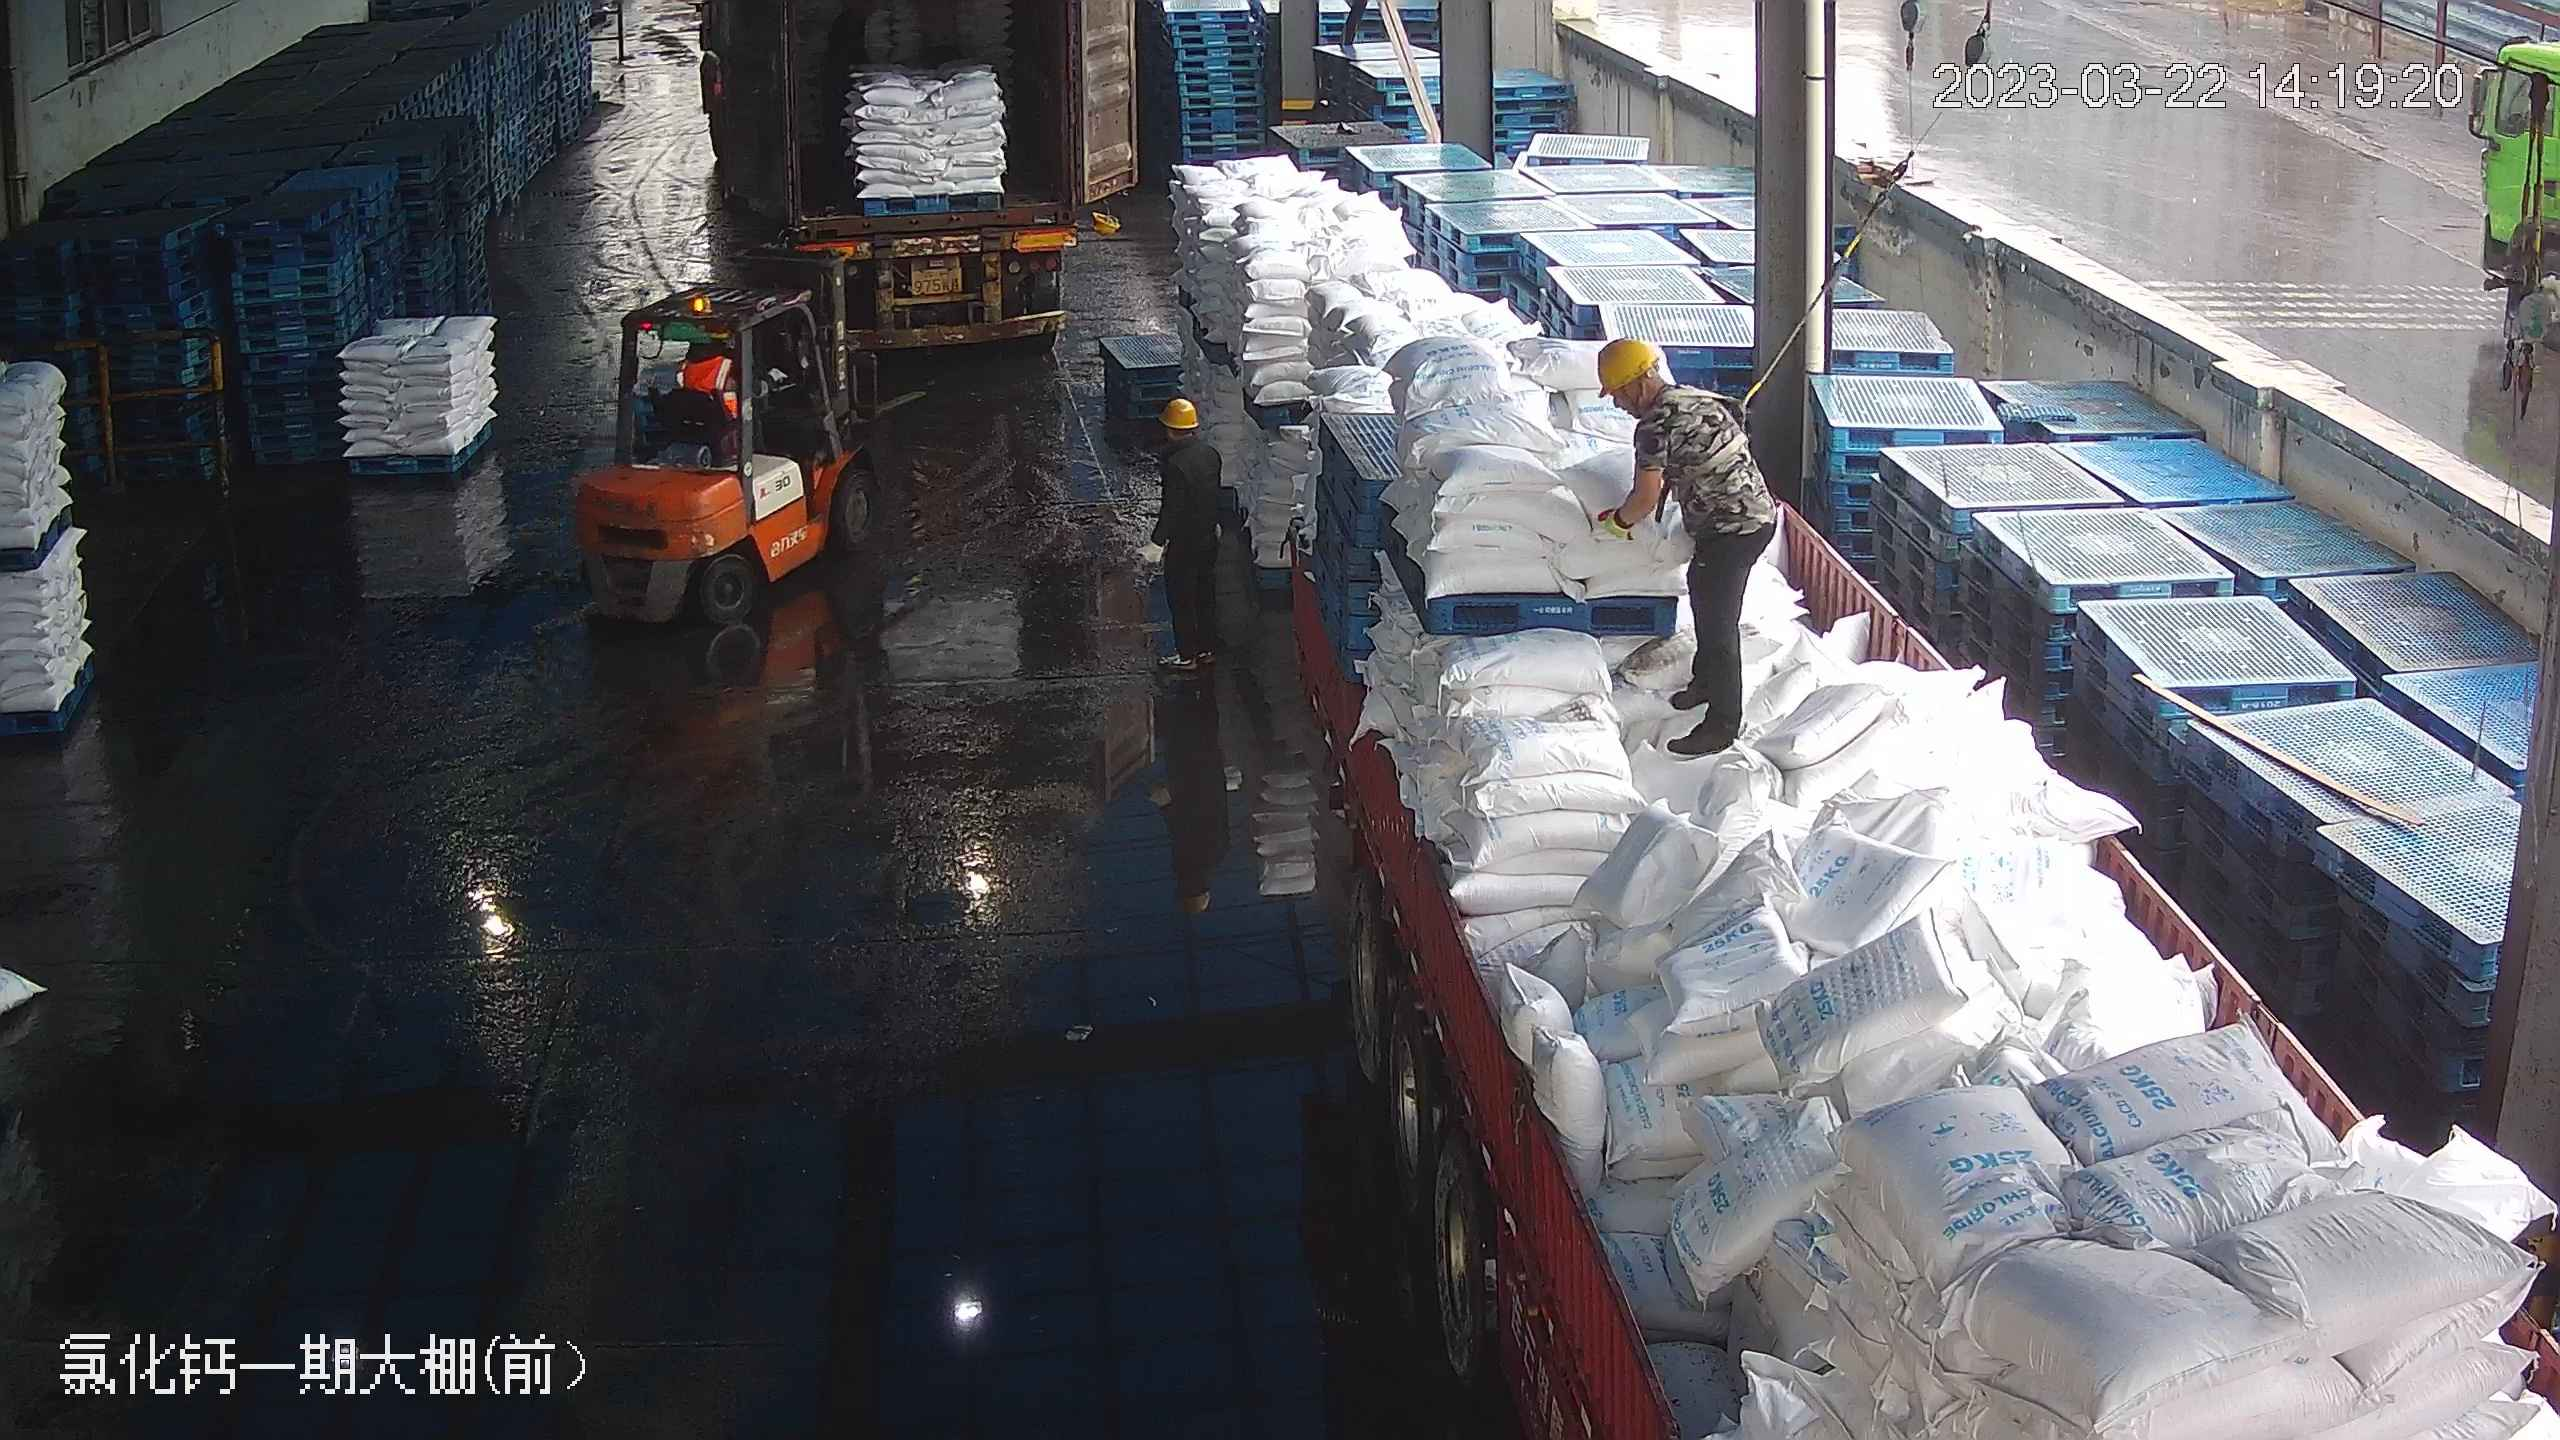belt: (1655, 376, 1762, 484)
head: (1593, 334, 1735, 447), (1150, 395, 1224, 488)
helmet: (1592, 335, 1661, 396), (1157, 395, 1198, 428)
people: (1587, 335, 1772, 752), (1144, 395, 1234, 673)
truck: (1242, 103, 2532, 1436), (748, 1, 1113, 332)
